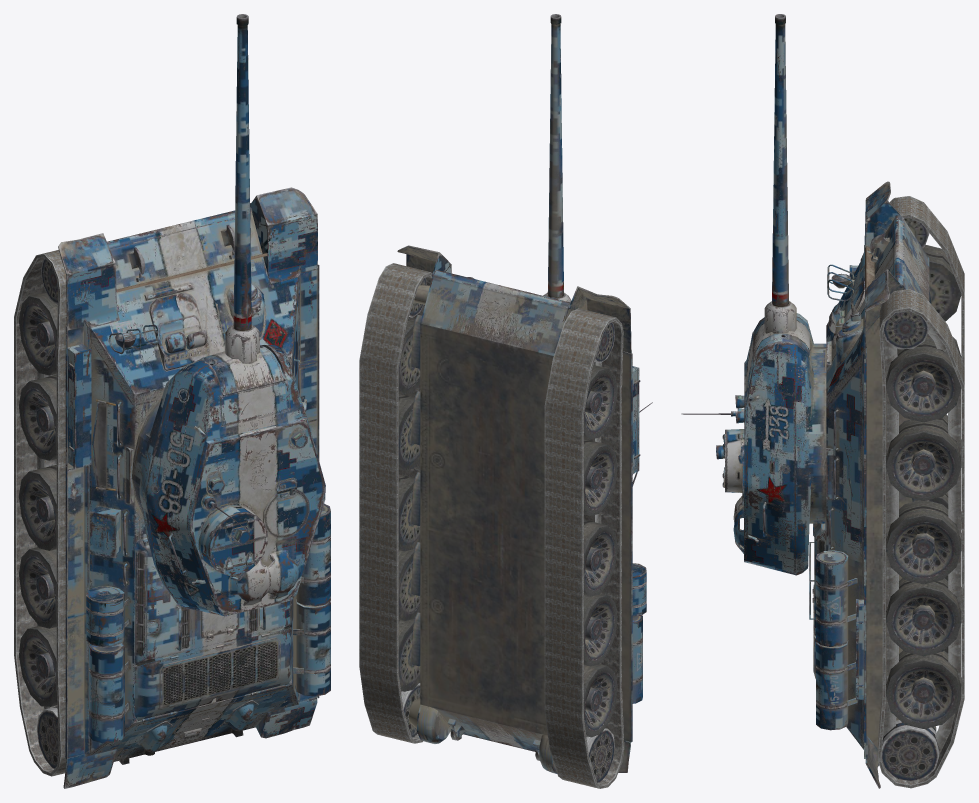
The picture shows the model from 3 angles, left to right: view 1: azimuth 30°, elevation 25°; view 2: azimuth 150°, elevation 25°; view 3: azimuth 270°, elevation 25°; orthographic projection. The views are drawn at different scales.
Parts seen in each view (by area): view 1: hull_nc, hull, turret_01, chassis_track_L, turret_01_nc, gun_01, gun_01_mask, chassis_wheel_L_04, chassis_wheel_L_03, chassis_wheel_L_06, chassis_wheel_L_02, chassis_wheel_L_05 (+1 smaller); view 2: hull, chassis_track_L, chassis_track_R, hull_nc, gun_01, chassis_wheel_L_04, chassis_wheel_L_03, chassis_wheel_L_05, chassis_wheel_L_06, chassis_wheel_L_02, chassis_wheel_R_03, chassis_wheel_R_04 (+4 smaller); view 3: hull, turret_01, hull_nc, chassis_track_R, chassis_wheel_R_04, chassis_wheel_R_03, chassis_wheel_R_06, chassis_wheel_R_05, chassis_wheel_R_02, gun_01, chassis_wheel_R_07, chassis_track_L (+4 smaller).
Part boxes in pixels (bbox=[...]): hull_nc: bbox=[58, 187, 330, 788]; hull: bbox=[85, 207, 298, 761]; turret_01: bbox=[131, 345, 325, 616]; chassis_track_L: bbox=[14, 250, 66, 776]; turret_01_nc: bbox=[168, 399, 325, 605]; gun_01: bbox=[233, 14, 251, 330]; gun_01_mask: bbox=[199, 324, 283, 394]; chassis_wheel_L_04: bbox=[19, 465, 56, 550]; chassis_wheel_L_03: bbox=[19, 374, 56, 460]; chassis_wheel_L_06: bbox=[19, 626, 57, 706]; chassis_wheel_L_02: bbox=[19, 292, 57, 375]; chassis_wheel_L_05: bbox=[19, 547, 56, 628]; hull: bbox=[420, 270, 570, 751]; chassis_track_L: bbox=[544, 308, 624, 788]; chassis_track_R: bbox=[359, 263, 432, 743]; hull_nc: bbox=[397, 245, 646, 773]; gun_01: bbox=[547, 14, 563, 298]; chassis_wheel_L_04: bbox=[584, 519, 617, 596]; chassis_wheel_L_03: bbox=[584, 439, 617, 515]; chassis_wheel_L_05: bbox=[584, 593, 617, 666]; chassis_wheel_L_06: bbox=[584, 664, 617, 737]; chassis_wheel_L_02: bbox=[584, 365, 617, 439]; chassis_wheel_R_03: bbox=[398, 394, 420, 470]; chassis_wheel_R_04: bbox=[398, 474, 420, 551]; hull: bbox=[813, 215, 929, 749]; turret_01: bbox=[725, 313, 826, 575]; hull_nc: bbox=[809, 181, 936, 788]; chassis_track_R: bbox=[877, 289, 964, 788]; chassis_wheel_R_04: bbox=[886, 500, 961, 584]; chassis_wheel_R_03: bbox=[886, 419, 961, 500]; chassis_wheel_R_06: bbox=[886, 650, 961, 728]; chassis_wheel_R_05: bbox=[886, 578, 961, 656]; chassis_wheel_R_02: bbox=[886, 338, 961, 422]; gun_01: bbox=[772, 14, 788, 306]; chassis_wheel_R_07: bbox=[881, 720, 939, 781]; chassis_track_L: bbox=[889, 196, 964, 653].
Size of the model in its own units: 3 by 8.82 by 3.15.
Materials: 2 (2 with a texture image).
